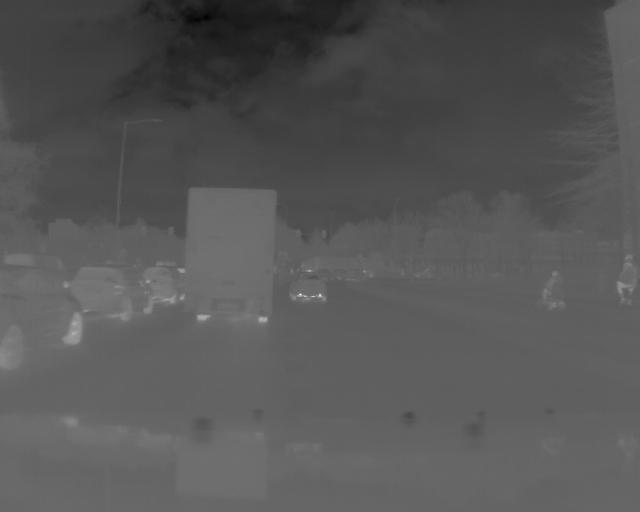car: (187, 186, 279, 324), (1, 268, 84, 373), (66, 263, 152, 321), (142, 265, 184, 307), (290, 270, 326, 302)
person: (614, 249, 638, 310), (540, 268, 566, 315)
